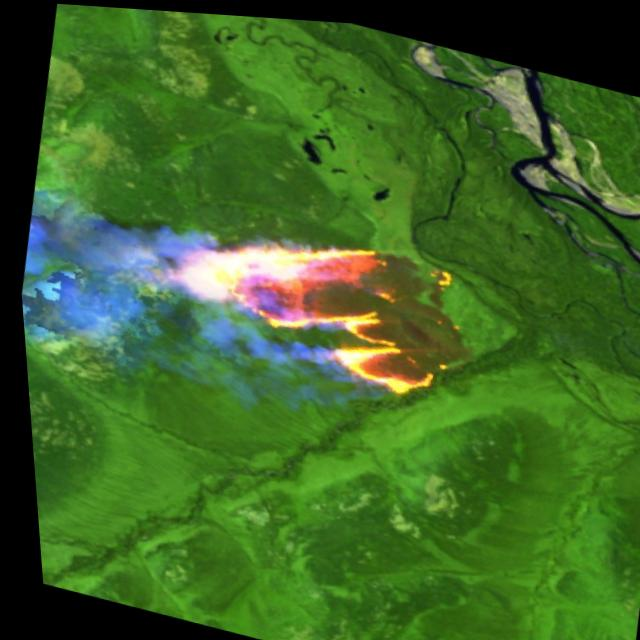fire: (149, 189, 488, 411)
